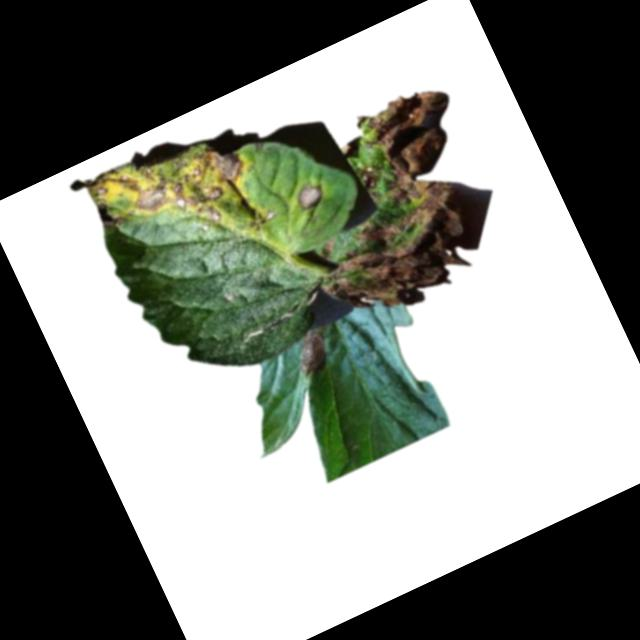Early_blight: (264, 78, 517, 330), (83, 117, 260, 263), (285, 328, 337, 381), (290, 178, 328, 215)
